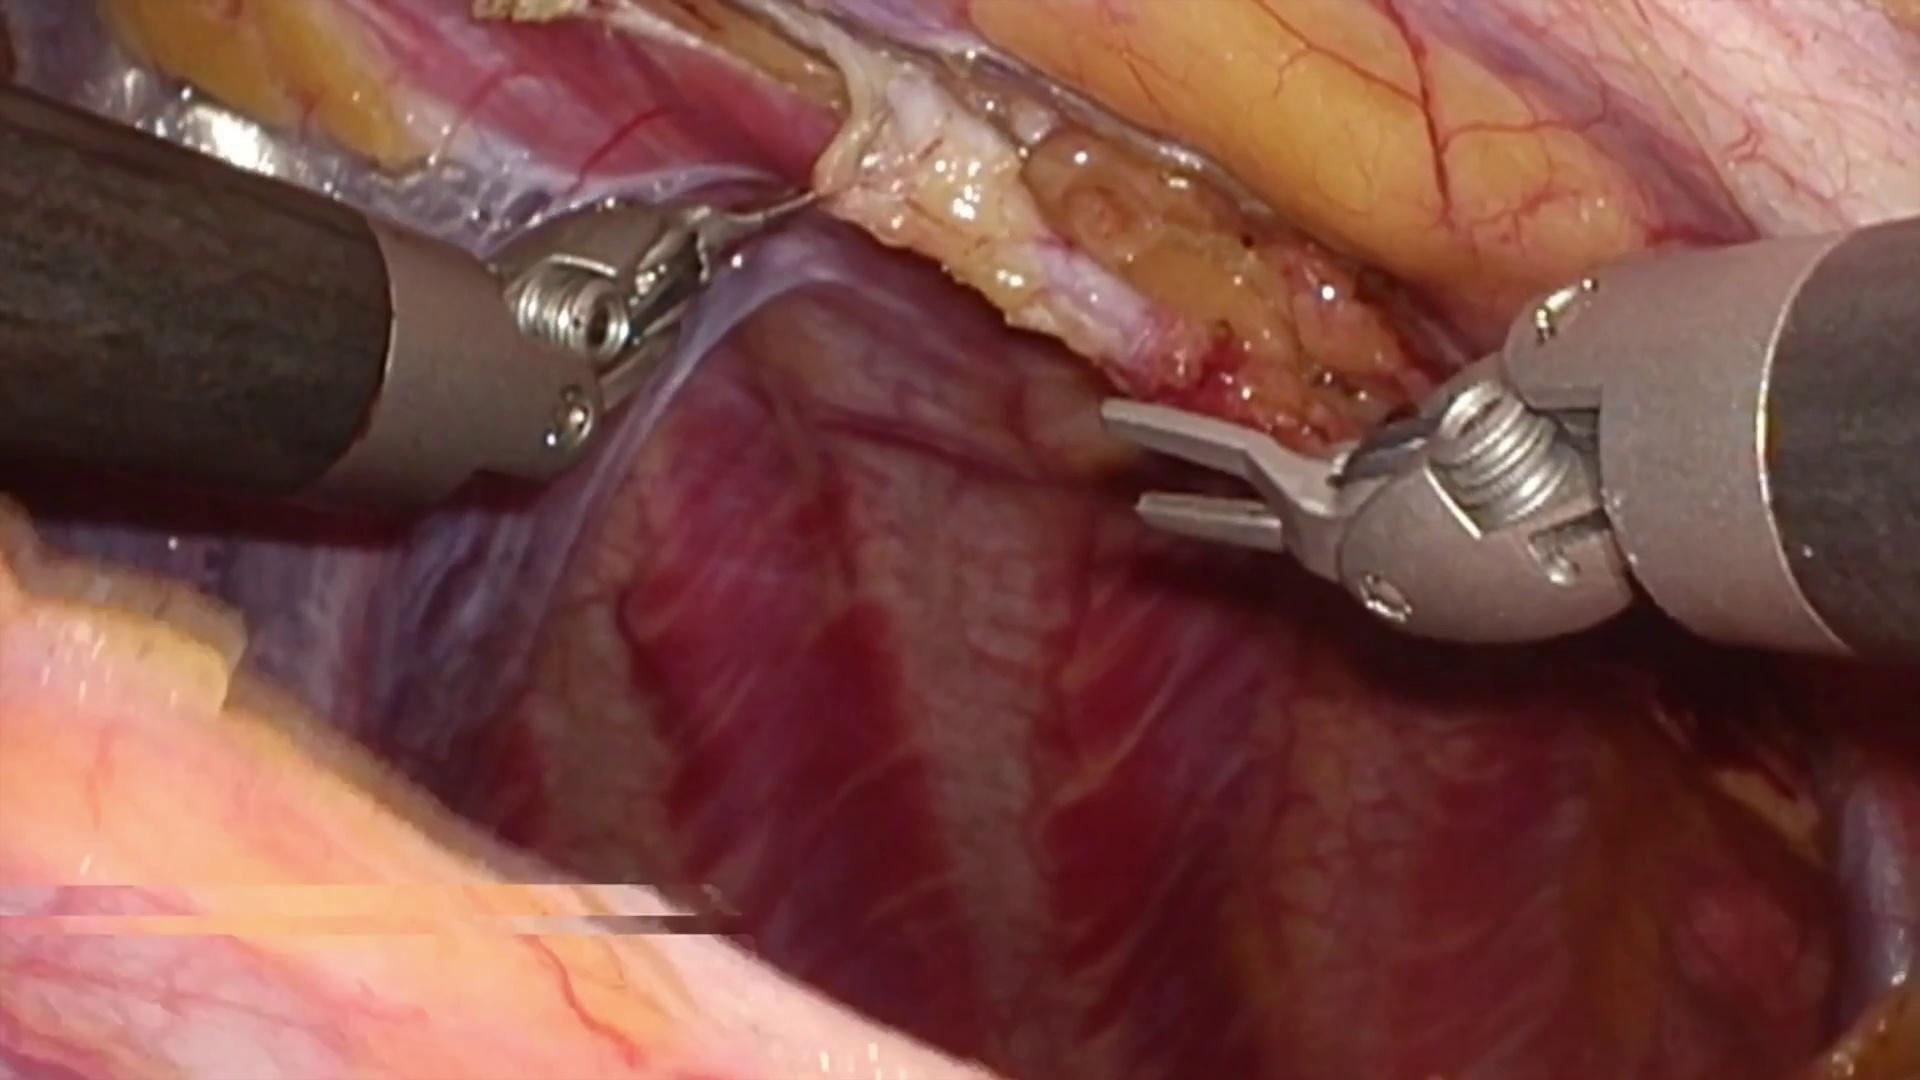Debakey: (678, 165, 849, 276)
clipper: (1100, 295, 1651, 686)
